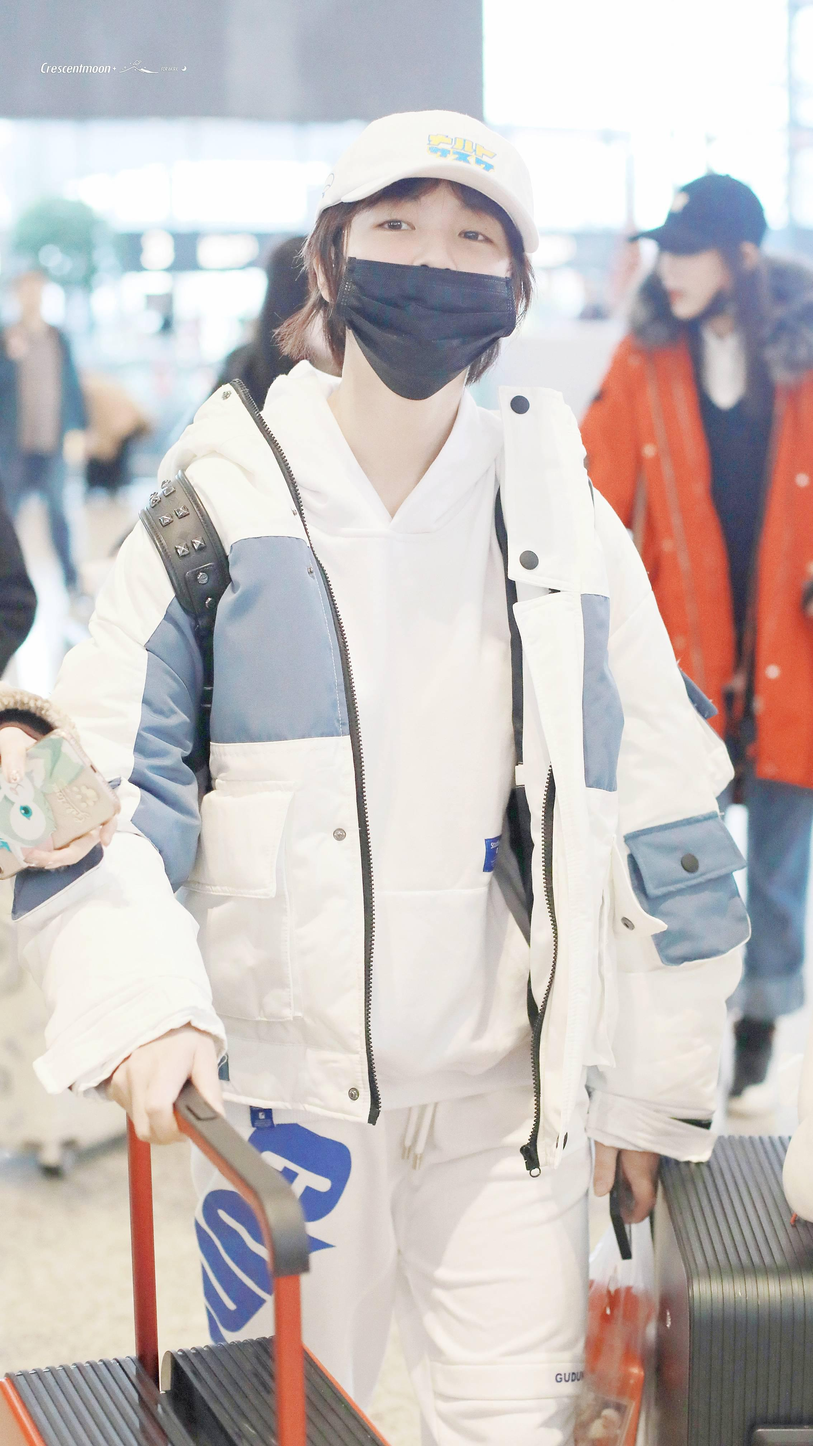WRONG: (351, 185, 513, 378), (656, 246, 729, 327)
